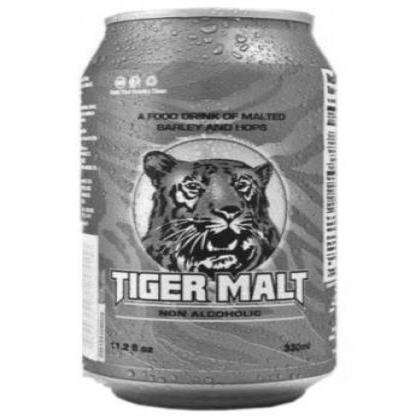alumunium_can: (75, 2, 342, 412)
